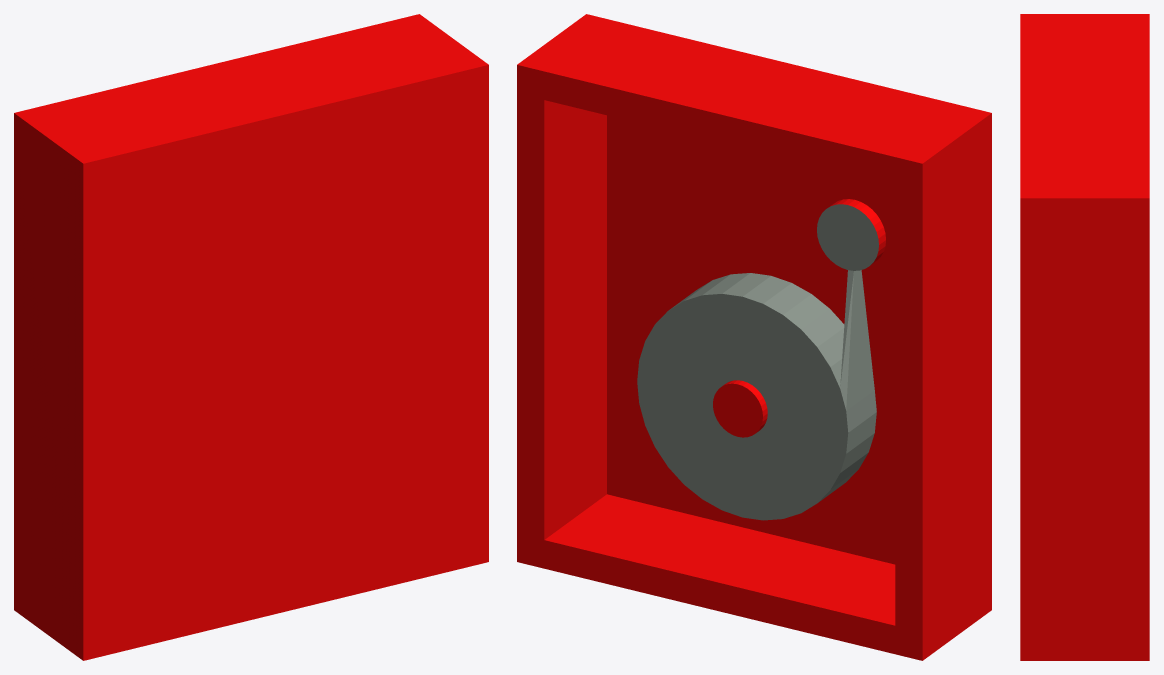
The model's file is gabinete_incendios.glb.
3 renders of one model, left to right at view 1: azimuth 30°, elevation 25°; view 2: azimuth 150°, elevation 25°; view 3: azimuth 270°, elevation 25°, orthographic. The views are drawn at different scales.
Visible parts, largest first — view 1: gabinete_export; view 2: gabinete_export; view 3: gabinete_export.
Part boxes in pixels (x1,y1,x2,y2): gabinete_export: (14,14,488,660); gabinete_export: (517,14,991,660); gabinete_export: (1020,14,1149,660).
Size of the model in its own units: 4.41 by 5.17 by 1.31.
